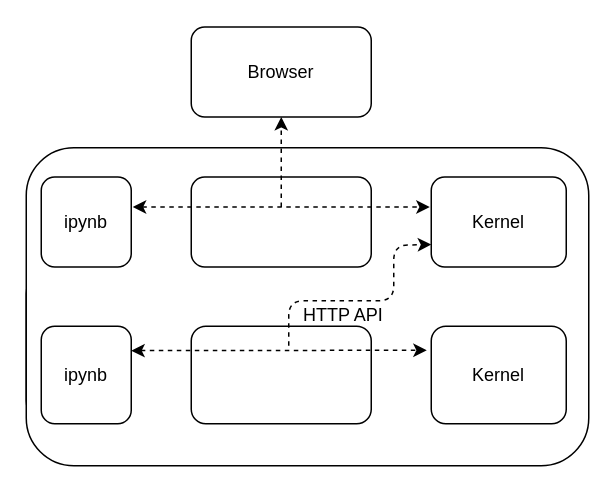
Image size: 615x492. Some labels were removed from this diagram. Each missing label, with the centre of its shape:
Jupyter Kernel Gateway: point 280,374
Voila: point 280,221
